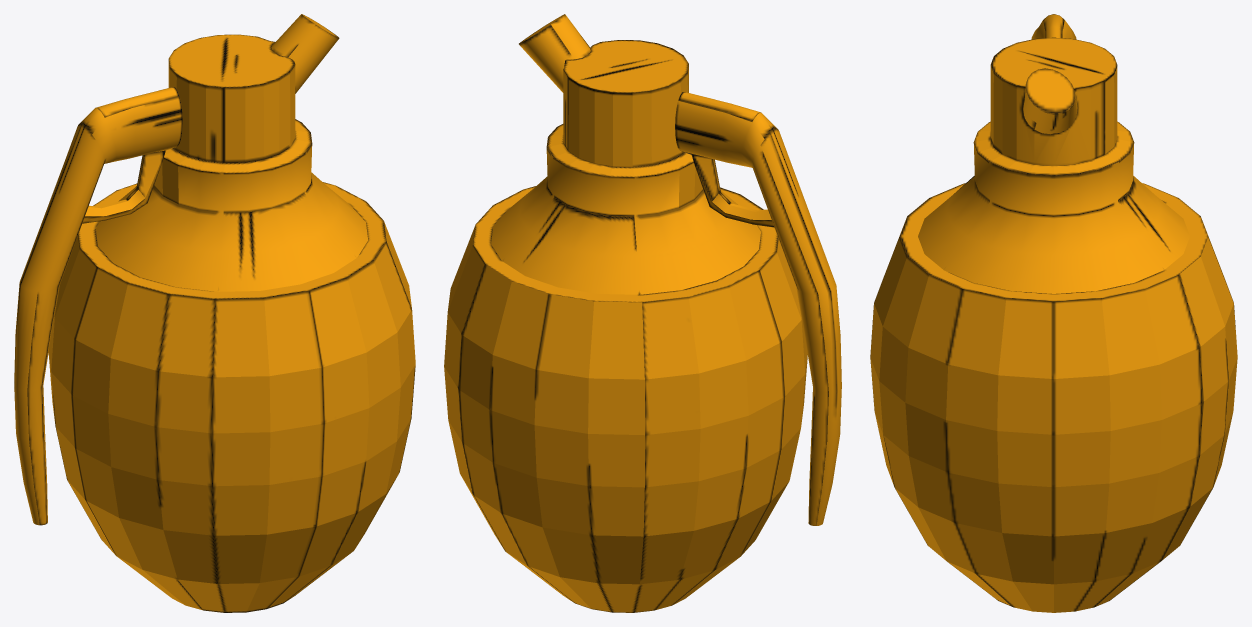
File: grenade.fbx
3 renders of one model, left to right at view 1: azimuth 30°, elevation 25°; view 2: azimuth 150°, elevation 25°; view 3: azimuth 270°, elevation 25°, orthographic.
Visible parts, largest first — view 1: grenade; view 2: grenade; view 3: grenade.
Part boxes in pixels (bbox=[...]): grenade: bbox=[14, 14, 415, 612]; grenade: bbox=[444, 14, 841, 612]; grenade: bbox=[870, 14, 1237, 612].
Size of the model in its own units: 1.45 by 2.03 by 1.23.
1 material, 1 textured.
